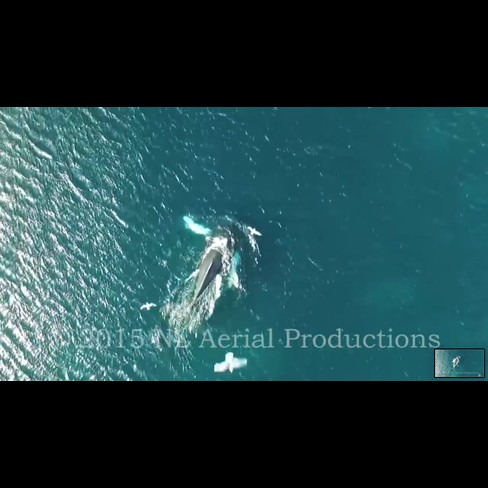hump: (157, 204, 256, 333)
